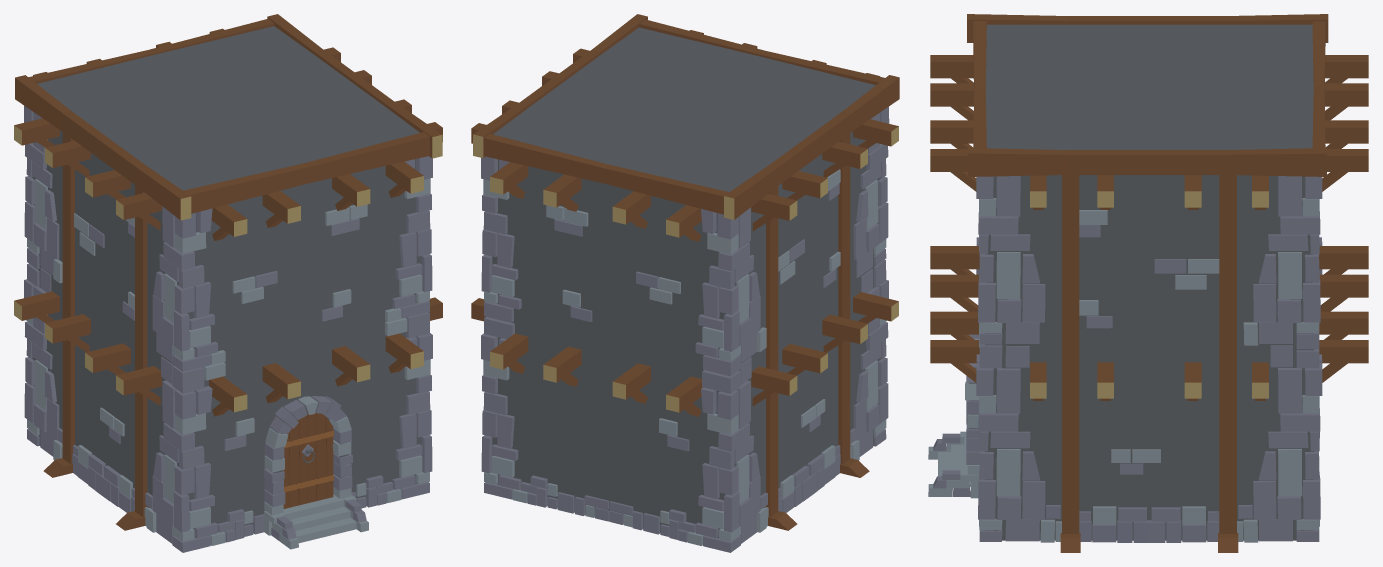
Rendered from House_3.glb.
3 renders of one model, left to right at view 1: azimuth 30°, elevation 25°; view 2: azimuth 150°, elevation 25°; view 3: azimuth 270°, elevation 25°, orthographic. The views are drawn at different scales.
Visible parts, largest first — view 1: House_3; view 2: House_3; view 3: House_3.
Boxes of the visible parts, <box> form: House_3: <box>14,14,442,552</box>; House_3: <box>471,14,899,552</box>; House_3: <box>928,14,1368,552</box>.
Bounding box in the file's own units: 1.94 × 2.09 × 2.12.
1 material, 1 textured.
